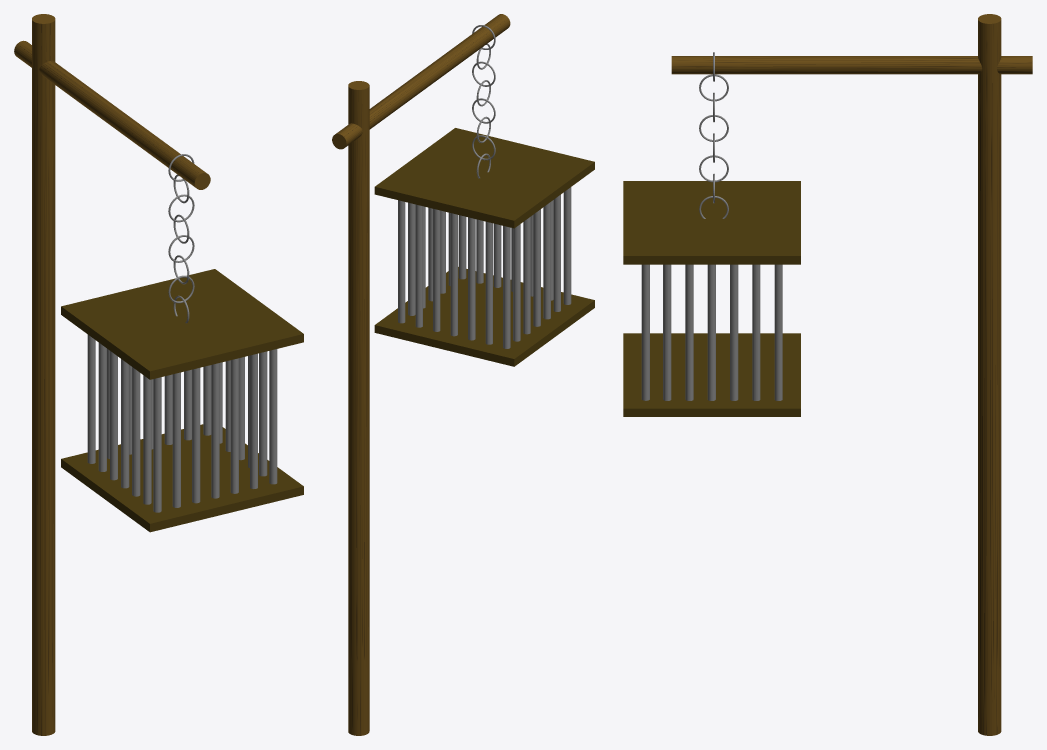
File: Lure.fbx
3 views of the same model, side by side, from view 1: azimuth 30°, elevation 25°; view 2: azimuth 150°, elevation 25°; view 3: azimuth 270°, elevation 25° (orthographic). The views are drawn at different scales.
Visible parts, largest first — view 1: Cube, Cylinder, Cylinder.002, Cylinder.005, Cylinder.001, Cylinder.006, Cylinder.004, Torus, Torus.001; view 2: Cube, Cylinder, Cylinder.005, Cylinder.004, Cylinder.002, Cylinder.001, Cylinder.006, Torus, Torus.001; view 3: Cube, Cylinder, Cylinder.006, Cylinder.001, Cylinder.002, Torus.001.
Part boxes in pixels (left/top/right/bottom): Cube: left=61, top=269, right=303, bottom=532; Cylinder: left=32, top=14, right=55, bottom=735; Cylinder.002: left=153, top=349, right=277, bottom=512; Cylinder.005: left=87, top=334, right=151, bottom=504; Cylinder.001: left=14, top=40, right=210, bottom=189; Cylinder.006: left=203, top=351, right=267, bottom=476; Cylinder.004: left=107, top=349, right=191, bottom=458; Torus: left=168, top=154, right=194, bottom=303; Torus.001: left=173, top=174, right=189, bottom=323; Cube: left=374, top=128, right=594, bottom=366; Cylinder: left=348, top=81, right=369, bottom=735; Cylinder.005: left=503, top=194, right=560, bottom=348; Cylinder.004: left=415, top=204, right=492, bottom=344; Cylinder.002: left=458, top=187, right=571, bottom=304; Cylinder.001: left=332, top=14, right=510, bottom=149; Cylinder.006: left=398, top=200, right=450, bottom=323; Torus: left=472, top=25, right=495, bottom=160; Torus.001: left=476, top=43, right=490, bottom=178; Cube: left=623, top=181, right=800, bottom=416; Cylinder: left=978, top=14, right=1001, bottom=735; Cylinder.006: left=663, top=264, right=782, bottom=400; Cylinder.001: left=671, top=56, right=1032, bottom=74; Cylinder.002: left=641, top=264, right=649, bottom=400; Torus.001: left=699, top=74, right=728, bottom=218.
Size of the model in its own units: 200 by 884 by 461.
9 materials, 9 textured.
